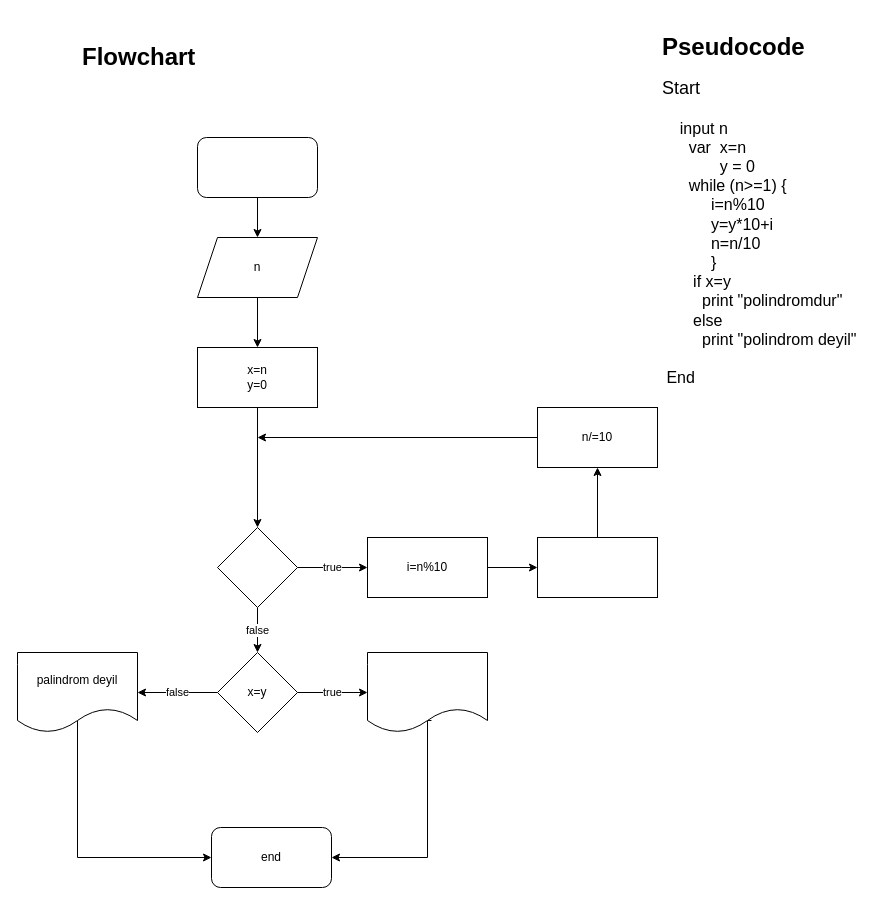
Image size: 885x905. Some labels were removed from this diagram. Here are the shapes that lost their labels. From the top down, the box of each, then its label:
(196, 136, 318, 198): start
(216, 526, 298, 608): n>=1
(536, 536, 658, 598): y=y*10+i
(366, 652, 488, 732): palindromdur
